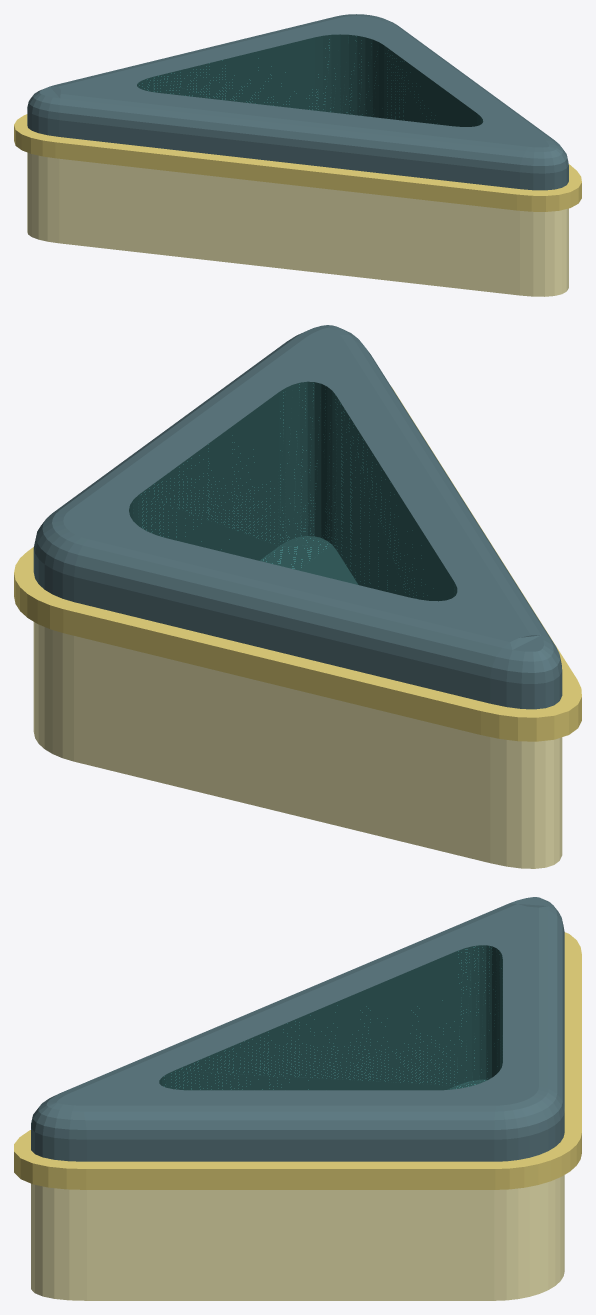
File: triangle.obj
The picture shows the model from 3 angles, top to bottom: view 1: azimuth 30°, elevation 25°; view 2: azimuth 150°, elevation 25°; view 3: azimuth 270°, elevation 25°; orthographic projection. The views are drawn at different scales.
Visible parts, largest first — view 1: NurbsPath; view 2: NurbsPath; view 3: NurbsPath.
Part boxes in pixels (x1,y1,x2,y2): NurbsPath: (14, 14, 581, 296); NurbsPath: (14, 325, 581, 868); NurbsPath: (14, 897, 581, 1300).
Bounding box in the file's own units: 5.86 × 2.08 × 5.81.
